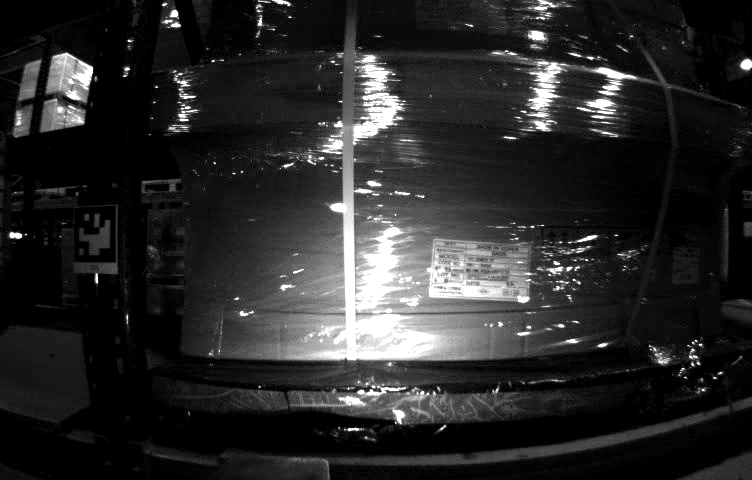True Barcode: (670, 246, 702, 285)
